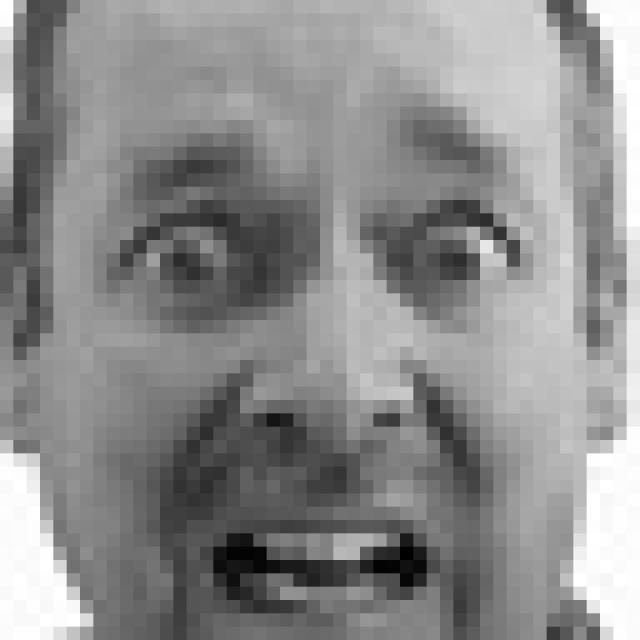fear: (99, 100, 536, 627)
